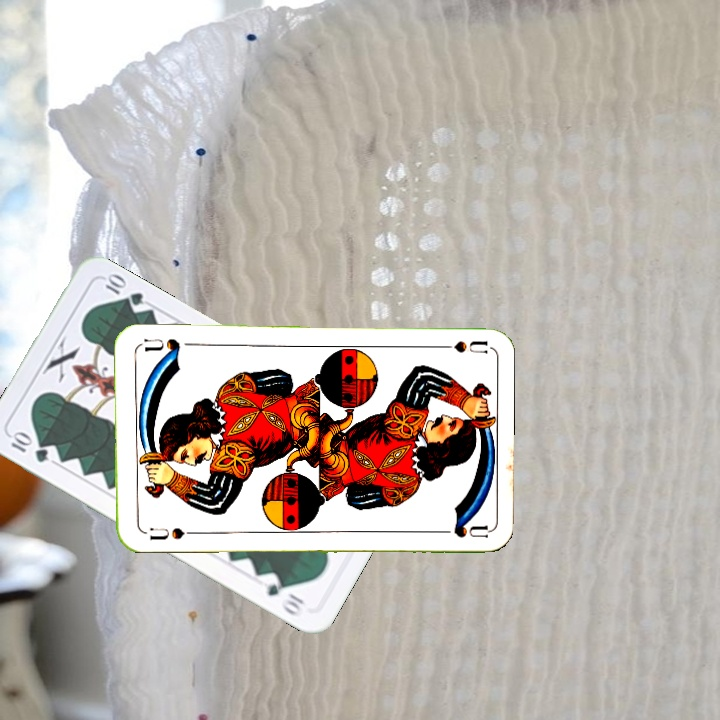G10: (6, 428, 51, 466)
SU: (429, 336, 488, 356), (145, 524, 197, 543)
